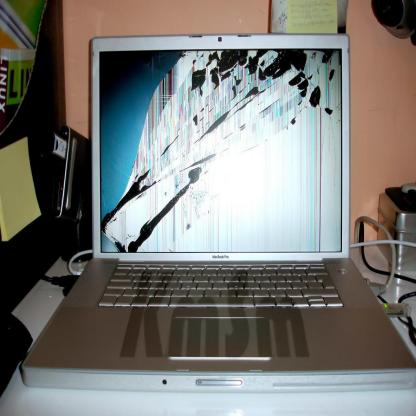board: (34, 30, 376, 407)
